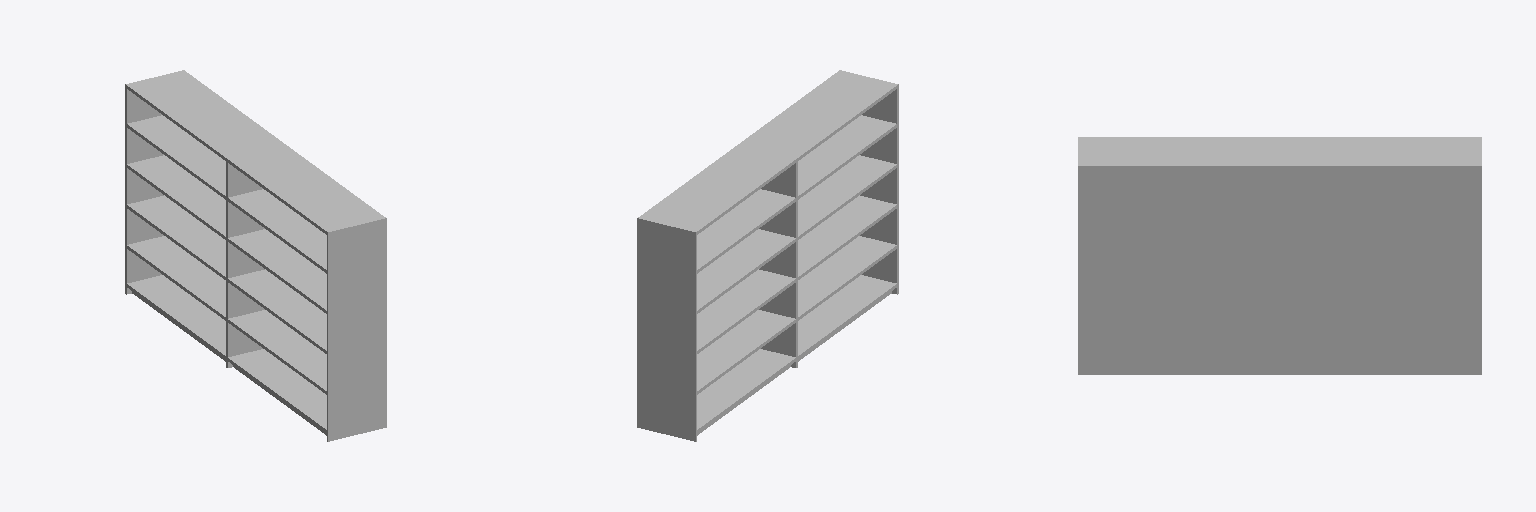
Rendered from Regal AK 2.obj.
The picture shows the model from 3 angles: view 1: azimuth 30°, elevation 25°; view 2: azimuth 150°, elevation 25°; view 3: azimuth 270°, elevation 25°; orthographic projection.
Parts seen in each view (by area): view 1: Regal_AK_2; view 2: Regal_AK_2; view 3: Regal_AK_2.
Part boxes in pixels (left/top/right/bottom): Regal_AK_2: left=125, top=70, right=386, bottom=441; Regal_AK_2: left=637, top=70, right=898, bottom=441; Regal_AK_2: left=1078, top=137, right=1481, bottom=374.
Size of the model in its own units: 0.8931 by 3.05 by 5.34.